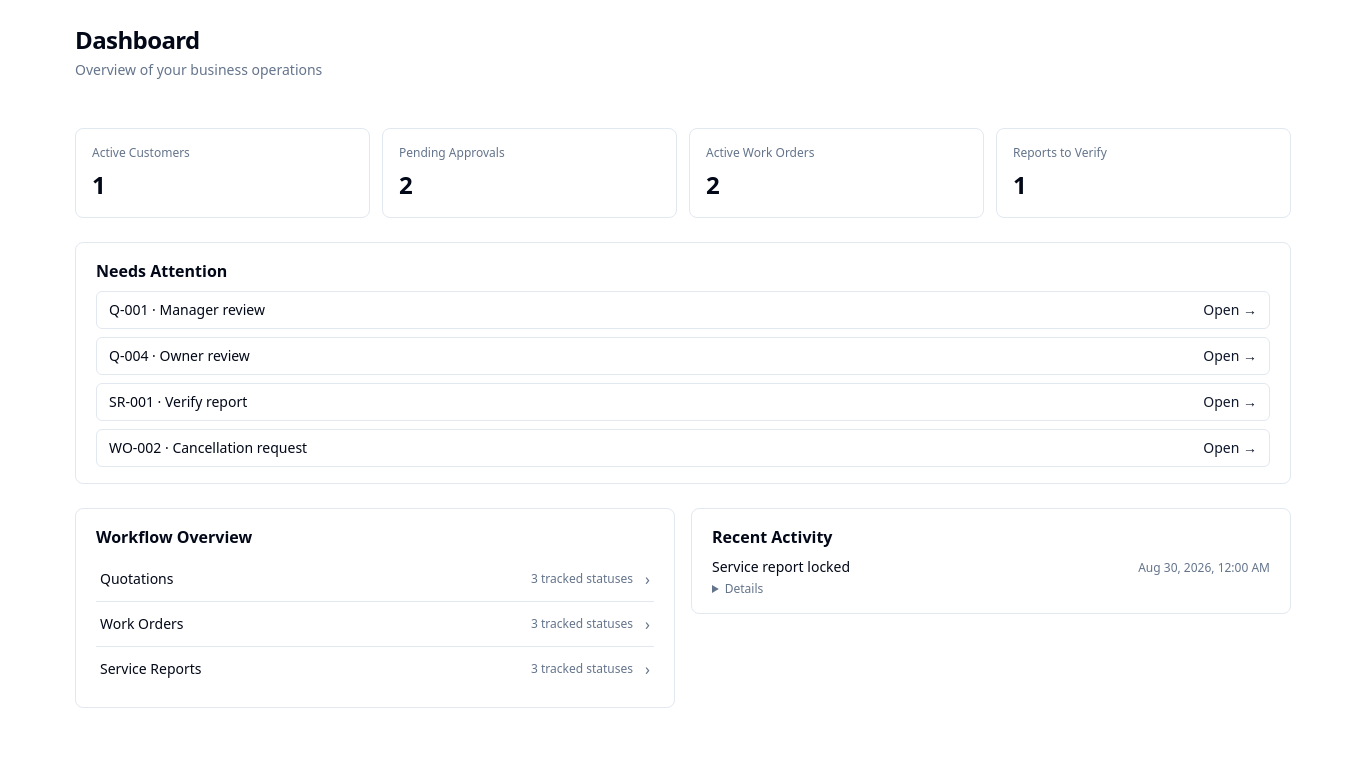
Test case: DashboardPage — role-based section visibility › summary and Quotation workflow links use existing routes and filters
Expected: the text "Active Customers" is shown, [92, 144, 190, 161]
Click the text "Quotations" at (137, 579), box [100, 569, 174, 589]
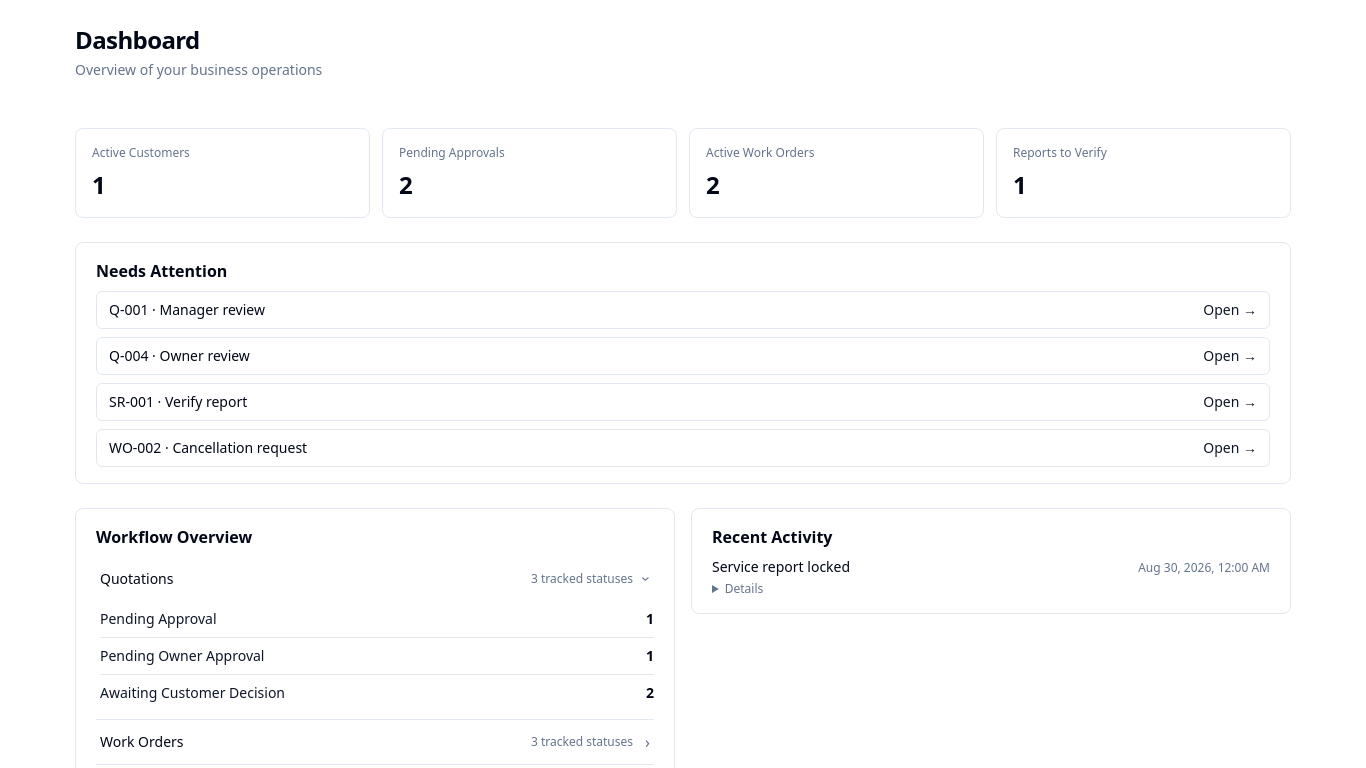
Result: the list item "Pending Owner Approval" shows "1" at [646, 646, 654, 665]
